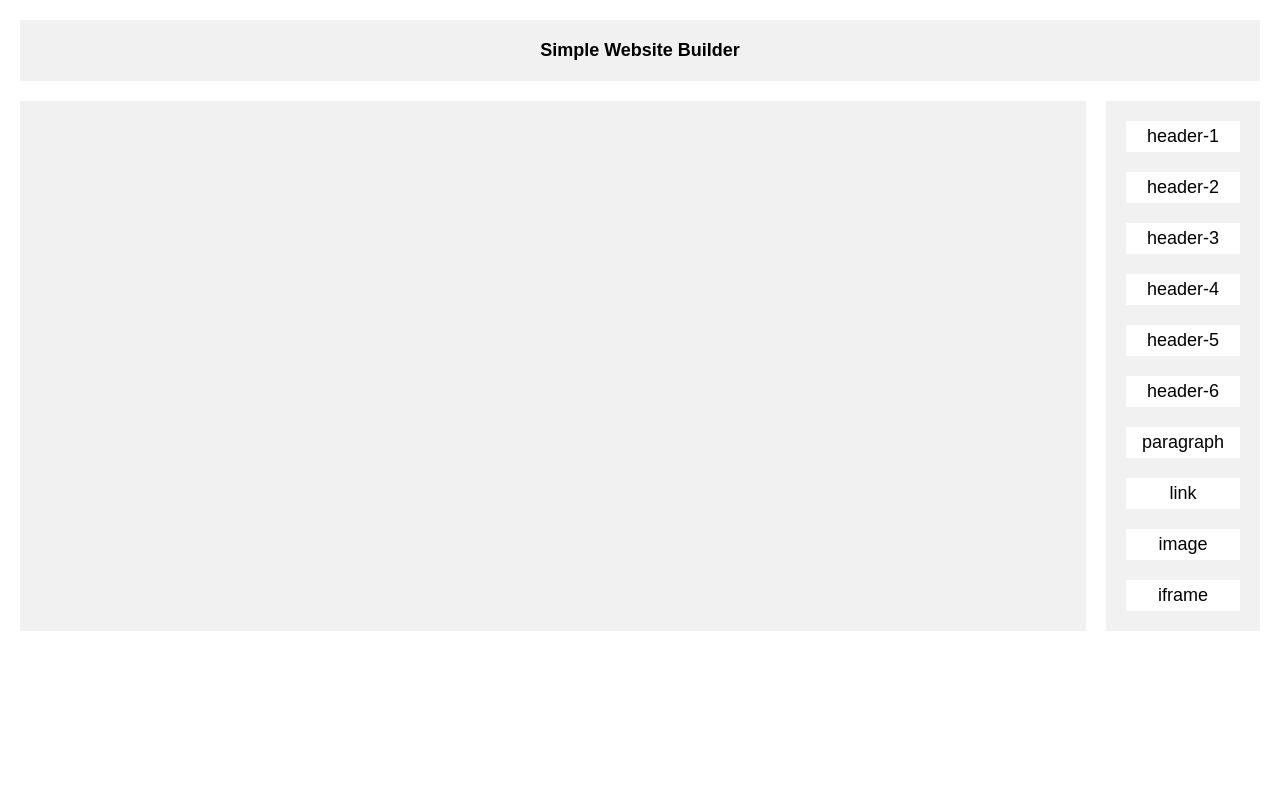
Scenario: Forms › should display component form after choosing a component to add
The image size is (1280, 800).
Click the text "header-1" at (1183, 136), box top-left (1147, 126), bottom-right (1219, 147)
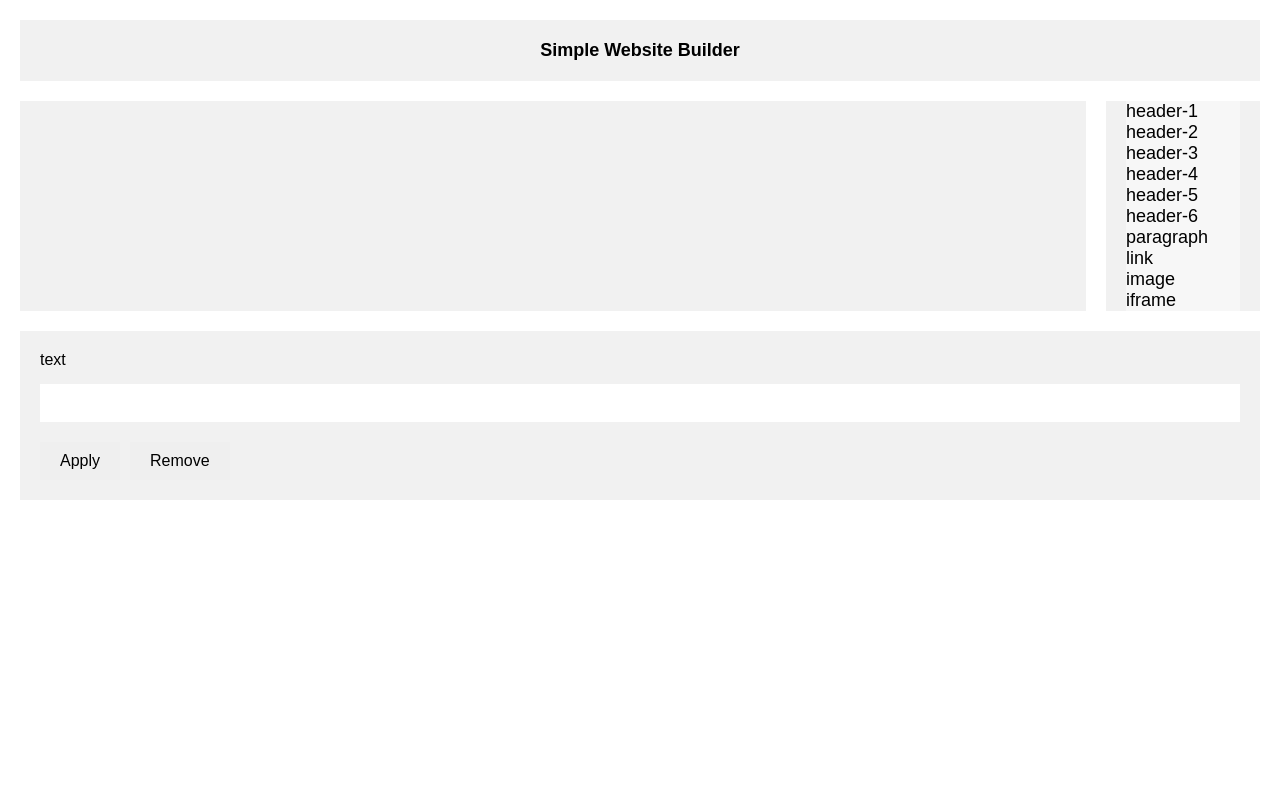
Expected: the button "Apply" is shown, top-left (40, 442), bottom-right (120, 480)
Expected: the button "Remove" is shown, top-left (130, 442), bottom-right (230, 480)
